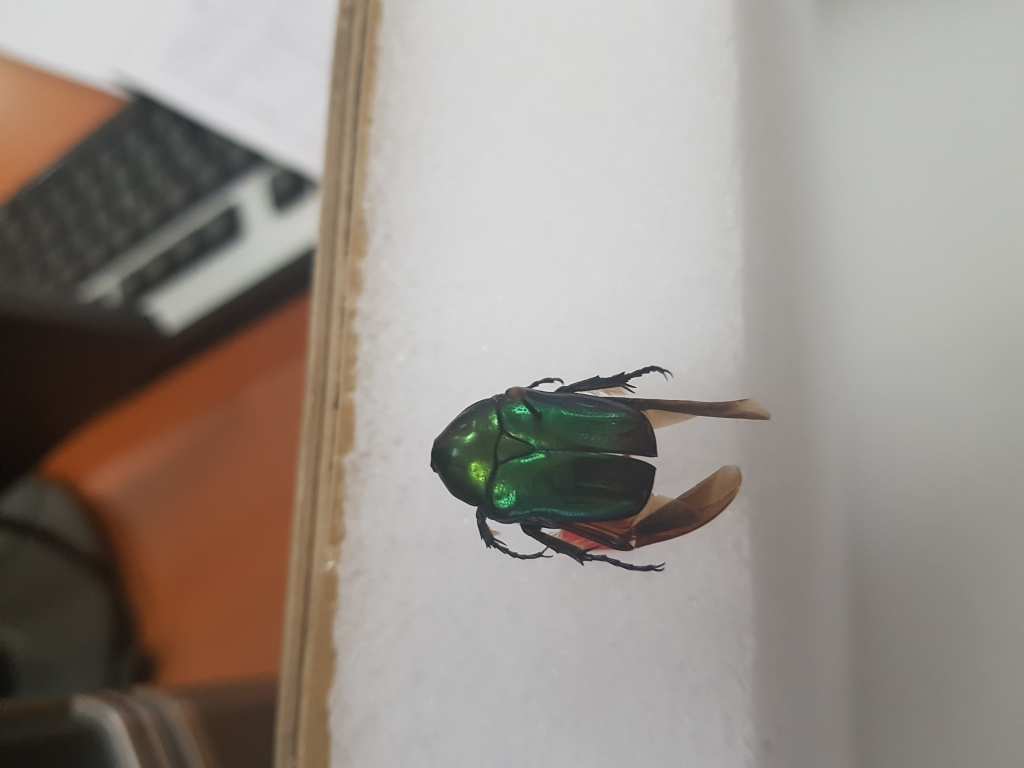Protaetia_besucheti: (422, 353, 786, 575)
